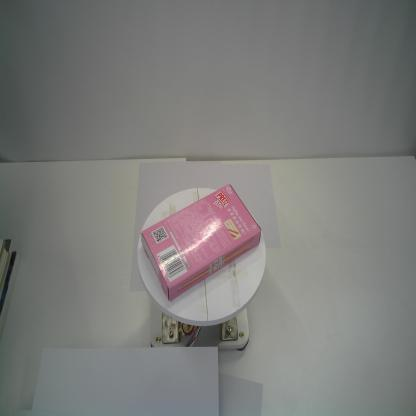Dessert: (140, 183, 262, 301)
